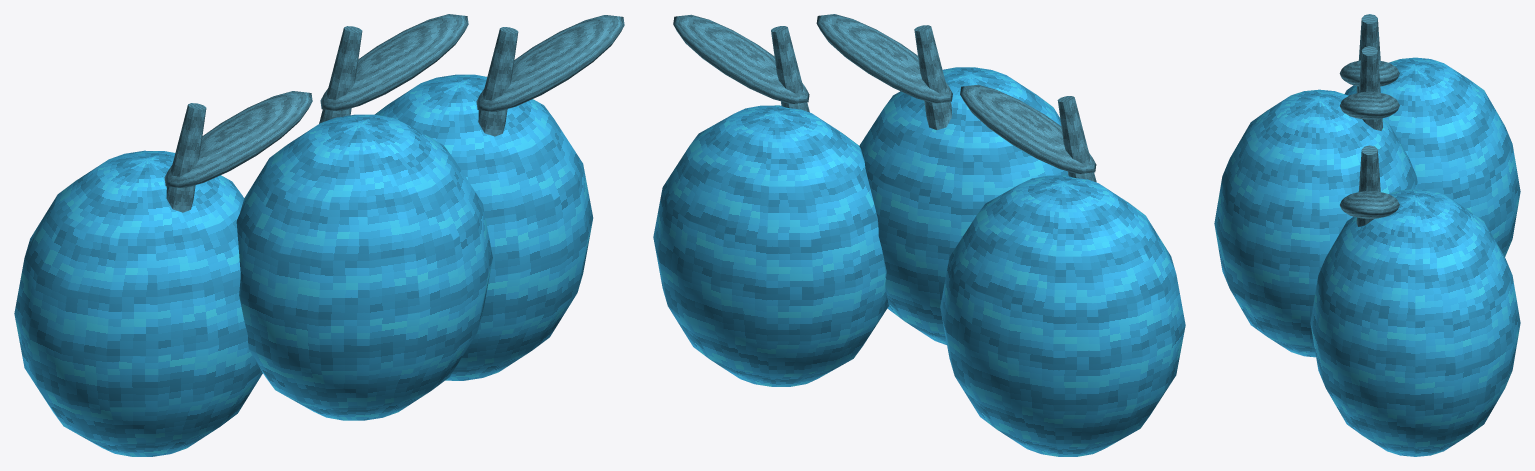
Rendered from fruta-2.glb.
The picture shows the model from 3 angles, left to right: view 1: azimuth 30°, elevation 25°; view 2: azimuth 150°, elevation 25°; view 3: azimuth 270°, elevation 25°; orthographic projection. The views are drawn at different scales.
Parts seen in each view (by area): view 1: Fruta.002, Pedúnculo.002; view 2: Fruta.002, Pedúnculo.002; view 3: Fruta.002, Pedúnculo.002.
Part boxes in pixels (x1,y1,x2,y2): Fruta.002: [14, 74, 593, 456]; Pedúnculo.002: [164, 14, 624, 212]; Fruta.002: [653, 67, 1185, 456]; Pedúnculo.002: [673, 14, 1096, 182]; Fruta.002: [1214, 57, 1520, 456]; Pedúnculo.002: [1339, 14, 1399, 226].
Size of the model in its own units: 1.24 by 0.8248 by 0.67.
Materials: 2 (2 with a texture image).
